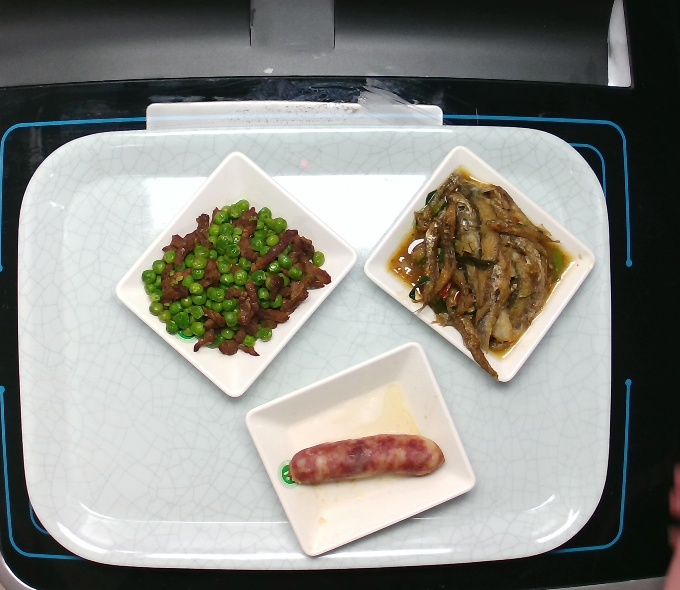wcq-CanDouNiuRou: (140, 193, 336, 363)
wcq-XiangChang: (285, 431, 448, 492)
wcq-XiaoJiYu: (400, 167, 560, 386)
